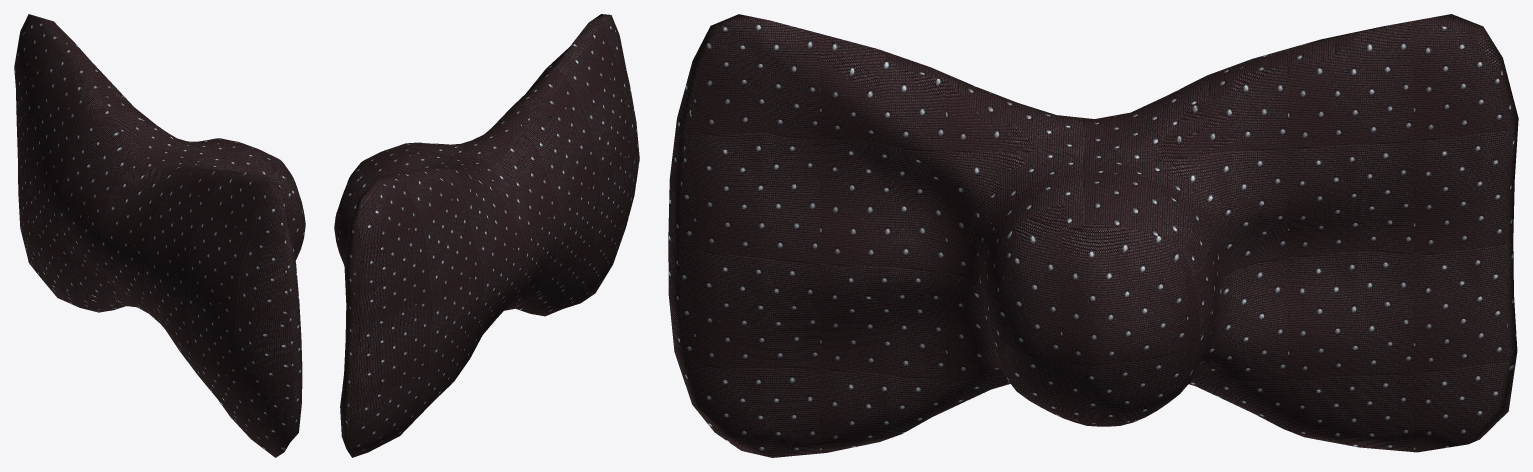
Rendered from Bow Tie.fbx.
The picture shows the model from 3 angles, left to right: view 1: azimuth 30°, elevation 25°; view 2: azimuth 150°, elevation 25°; view 3: azimuth 270°, elevation 25°; orthographic projection. The views are drawn at different scales.
Parts seen in each view (by area): view 1: pCube1; view 2: pCube1; view 3: pCube1.
Part boxes in pixels (box(x1,y1,x2,y2)): pCube1: box(14, 14, 305, 457); pCube1: box(334, 14, 639, 457); pCube1: box(668, 14, 1518, 457).
Size of the model in its own units: 4.78 by 6.6 by 11.85.
Materials: 1 (1 with a texture image).
